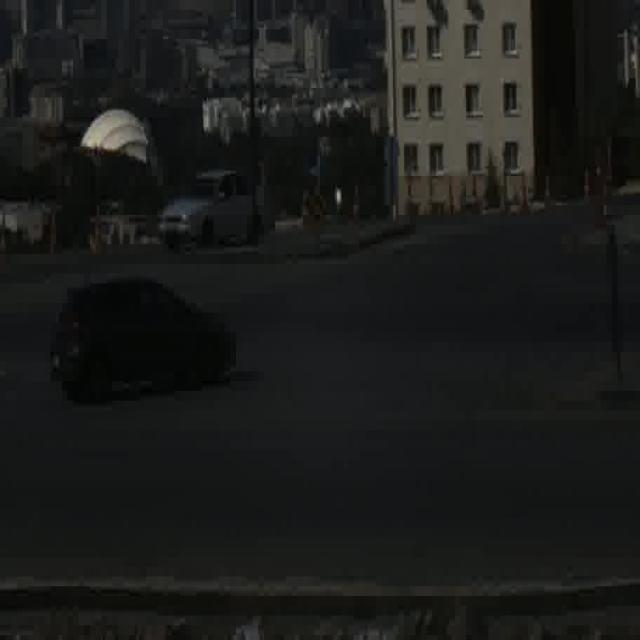Car: (50, 276, 236, 396), (160, 168, 264, 250)
